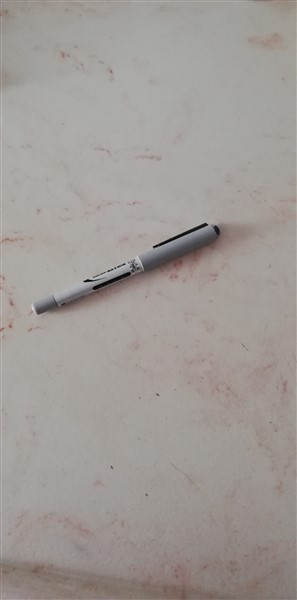pilot kalem: (28, 215, 229, 323)
